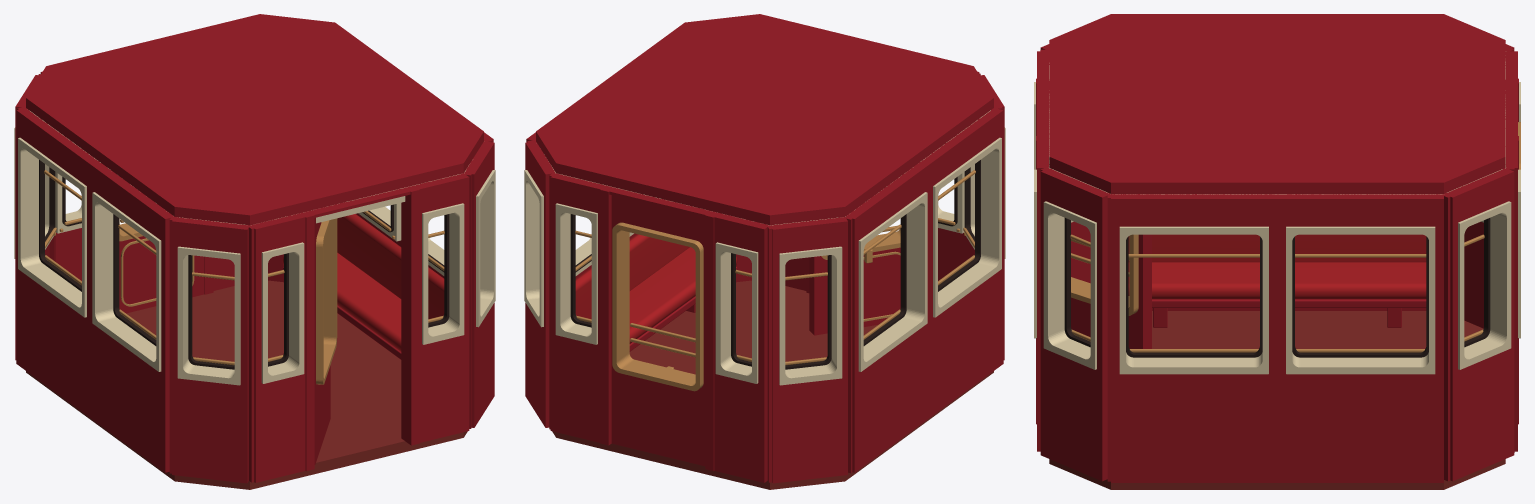
Rendered from ferris_remake_R03_material.glb.
3 renders of one model, left to right at view 1: azimuth 30°, elevation 25°; view 2: azimuth 150°, elevation 25°; view 3: azimuth 270°, elevation 25°, orthographic. The views are drawn at different scales.
Visible parts, largest first — view 1: ceiling_slab, floor_slab, wall_6_3_0.050, wall_6_1_0.050, wall_7_1_0.050, cream_bezel_6_1, cream_bezel_6_0, fixed_door_jamb_0_0.55, wall_0_1_0.050, bench_1_back, wall_0_5_0.050, cream_bezel_7_0 (+42 smaller); view 2: ceiling_slab, floor_slab, door_4_bottom, wall_6_1_0.050, wall_6_3_0.050, wall_5_1_0.050, door_window_bezel_4, cream_bezel_6_0, cream_bezel_6_1, wall_4_5_0.050, wall_4_1_0.050, door_0_bottom (+41 smaller); view 3: ceiling_slab, wall_2_1_0.050, wall_2_3_0.050, floor_slab, bench_-1_seat, bench_-1_back, cream_bezel_2_0, cream_bezel_2_1, wall_1_1_0.050, wall_3_1_0.050, cream_bezel_1_0, cream_bezel_3_0 (+29 smaller).
Part boxes in pixels (box(x1,y1,x2,y2)): ceiling_slab: box(26, 14, 483, 225); floor_slab: box(26, 280, 467, 489); wall_6_3_0.050: box(94, 325, 161, 469); wall_6_1_0.050: box(20, 271, 86, 415); wall_7_1_0.050: box(178, 378, 240, 482); cream_bezel_6_1: box(92, 192, 161, 371); cream_bezel_6_0: box(18, 137, 86, 317); fixed_door_jamb_0_0.55: box(401, 186, 419, 445); wall_0_1_0.050: box(261, 374, 302, 481); bench_1_back: box(337, 214, 444, 319); wall_0_5_0.050: box(422, 335, 462, 442); cream_bezel_7_0: box(177, 246, 240, 385); ceiling_slab: box(536, 14, 993, 225); floor_slab: box(552, 280, 993, 489); door_4_bottom: box(611, 364, 705, 466); wall_6_1_0.050: box(858, 325, 925, 469); wall_6_3_0.050: box(933, 271, 999, 415); wall_5_1_0.050: box(779, 378, 841, 482); door_window_bezel_4: box(612, 222, 703, 391); cream_bezel_6_0: box(858, 192, 927, 371); cream_bezel_6_1: box(933, 137, 1001, 317); wall_4_5_0.050: box(717, 374, 758, 481); wall_4_1_0.050: box(557, 335, 597, 442); door_0_bottom: box(809, 247, 900, 335); ceiling_slab: box(1049, 14, 1505, 193); wall_2_1_0.050: box(1119, 374, 1268, 482); wall_2_3_0.050: box(1286, 374, 1435, 482); floor_slab: box(1049, 311, 1505, 489); bench_-1_seat: box(1128, 262, 1426, 299); bench_-1_back: box(1128, 234, 1426, 262); cream_bezel_2_0: box(1119, 226, 1268, 374); cream_bezel_2_1: box(1286, 226, 1435, 374); wall_1_1_0.050: box(1046, 349, 1096, 478); wall_3_1_0.050: box(1458, 349, 1508, 478); cream_bezel_1_0: box(1043, 201, 1096, 369); cream_bezel_3_0: box(1458, 201, 1511, 369).
Bounding box in the file's own units: 3.49 × 2.75 × 3.95.
